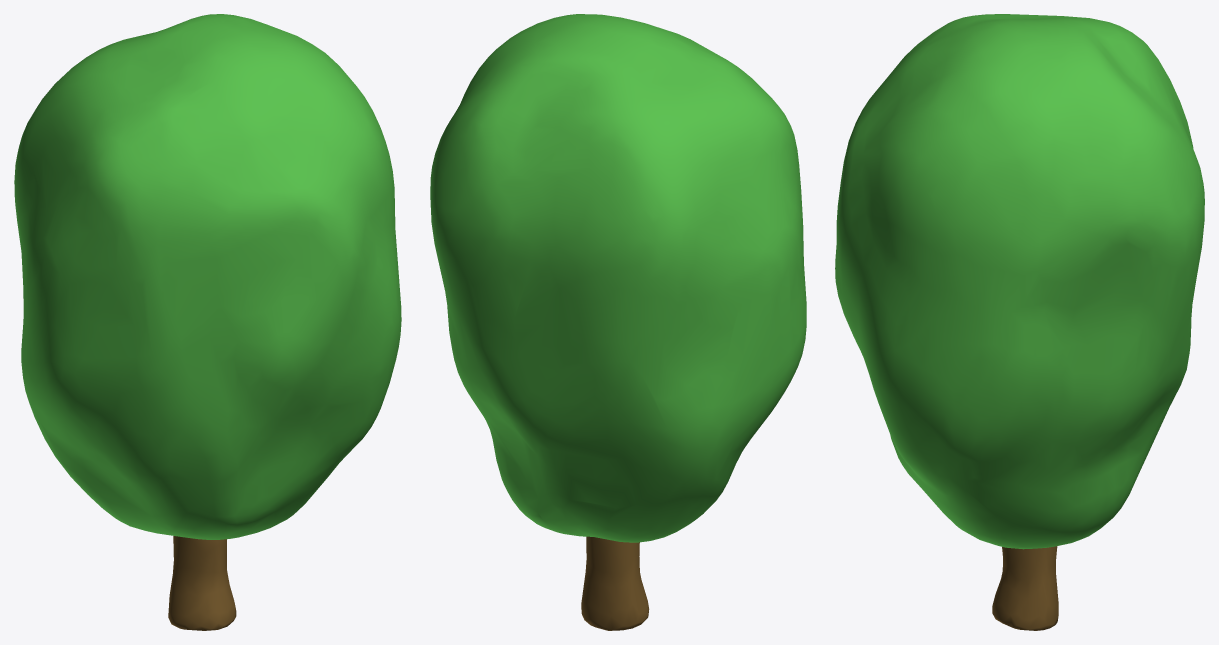
Rendered from tree-no-material.glb.
3 views of the same model, side by side, from view 1: azimuth 30°, elevation 25°; view 2: azimuth 150°, elevation 25°; view 3: azimuth 270°, elevation 25° (orthographic). The views are drawn at different scales.
Visible parts, largest first — view 1: Cylinder.002; view 2: Cylinder.002; view 3: Cylinder.002.
Boxes of the visible parts, box(x1,y1,x2,y2) form: Cylinder.002: box(14, 14, 401, 630); Cylinder.002: box(430, 14, 806, 630); Cylinder.002: box(835, 14, 1204, 630).
Bounding box in the file's own units: 1.2 × 2.02 × 1.13.
